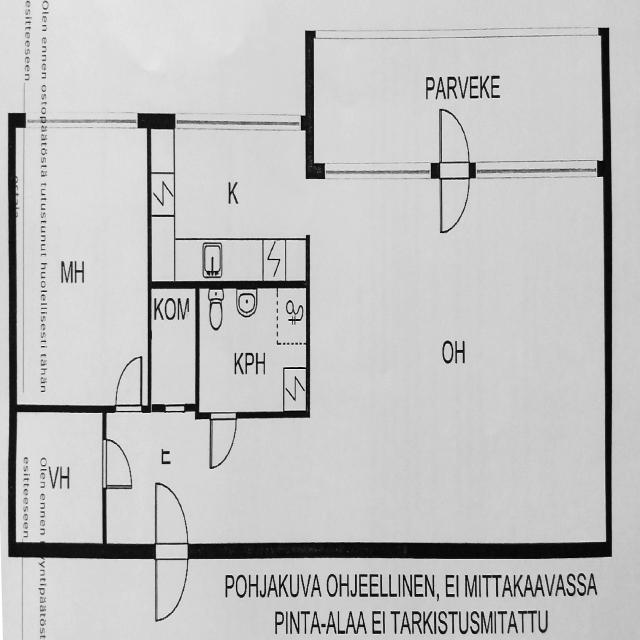door: (320, 172, 591, 560), (149, 474, 191, 624), (436, 105, 471, 237), (111, 348, 146, 416), (99, 435, 137, 495), (206, 409, 238, 474)
window: (471, 155, 601, 188), (169, 110, 303, 140), (320, 160, 436, 189), (45, 110, 142, 134)
zone: (18, 127, 151, 406), (151, 122, 304, 286), (196, 282, 308, 414), (14, 409, 104, 550), (149, 281, 198, 411)
